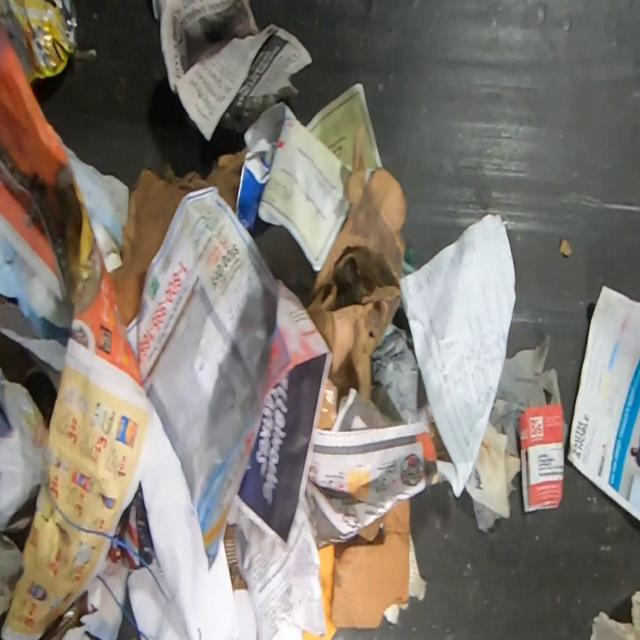cardboard: (305, 125, 408, 431), (110, 144, 248, 329), (330, 496, 411, 629)
soft_plastic: (488, 333, 562, 457), (0, 365, 48, 532), (0, 0, 78, 84), (370, 323, 419, 423), (472, 499, 496, 533)
